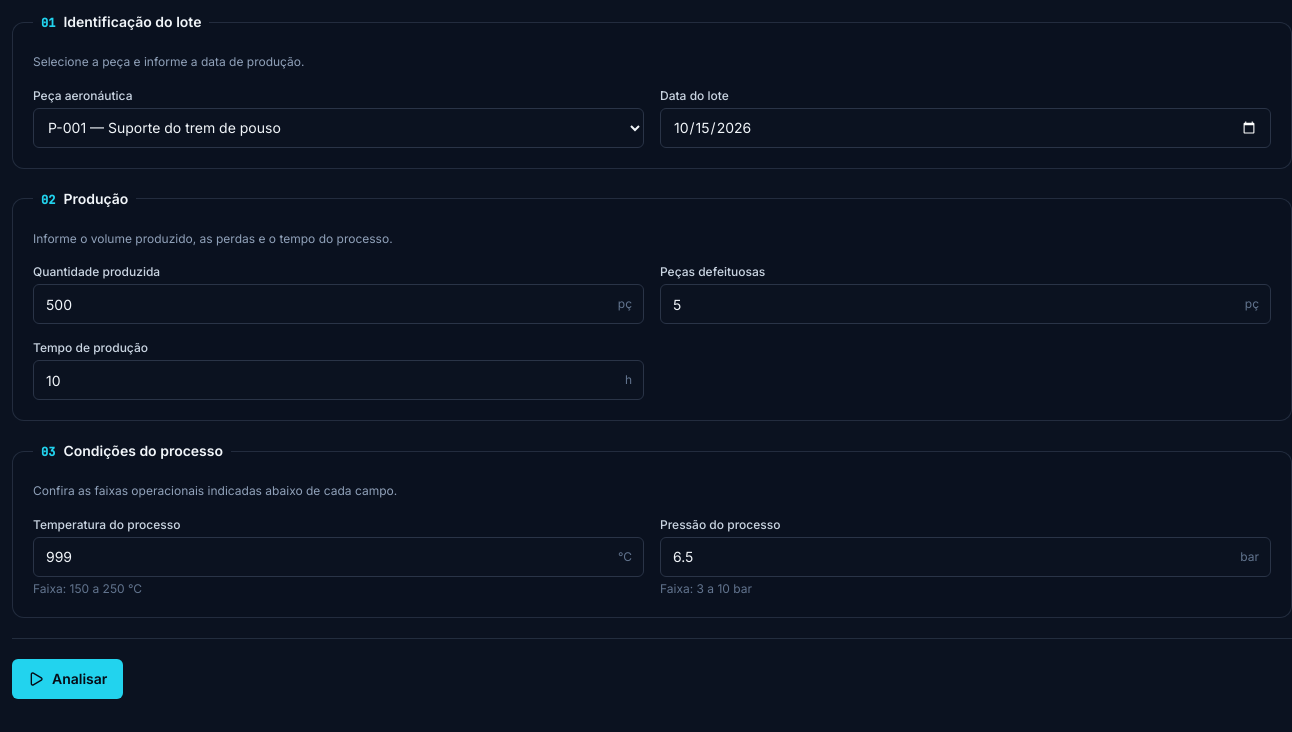
Test case: T6.6 — obrigatórios, faixas e submit › permite envio após corrigir temperatura inválida
Click the button "Analisar": (68,678) x1=12 y1=658 x2=123 y2=698
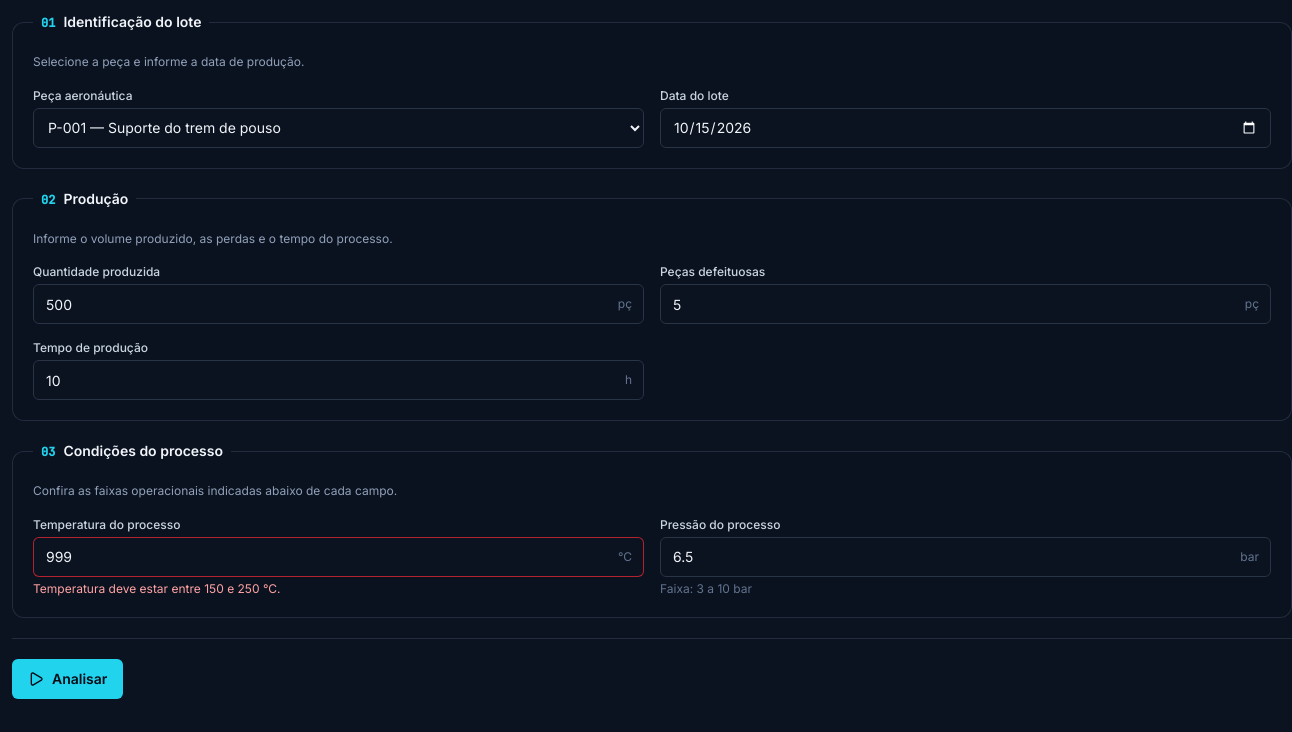
Replace the text in the number field labelled "Temperatura do processo" with "205": (338,556) x1=33 y1=536 x2=644 y2=576
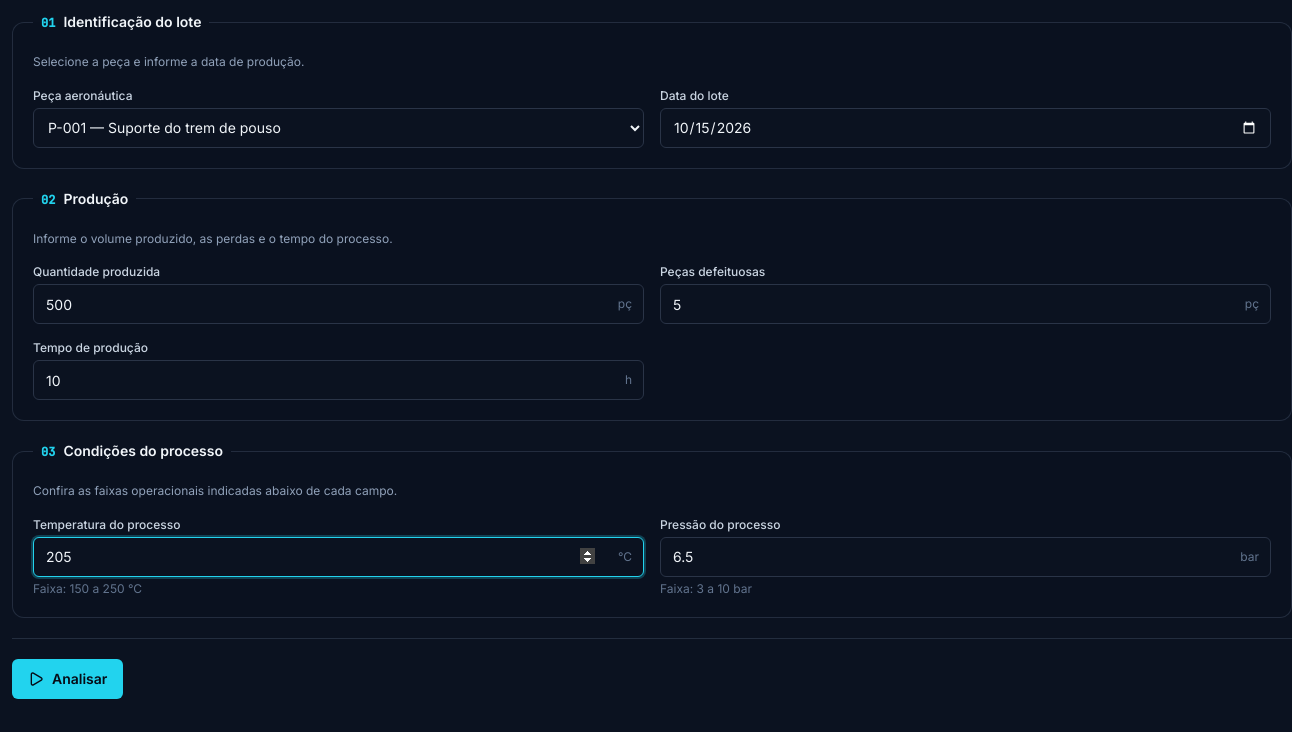
Click the button "Analisar": (68,678) x1=12 y1=658 x2=123 y2=698
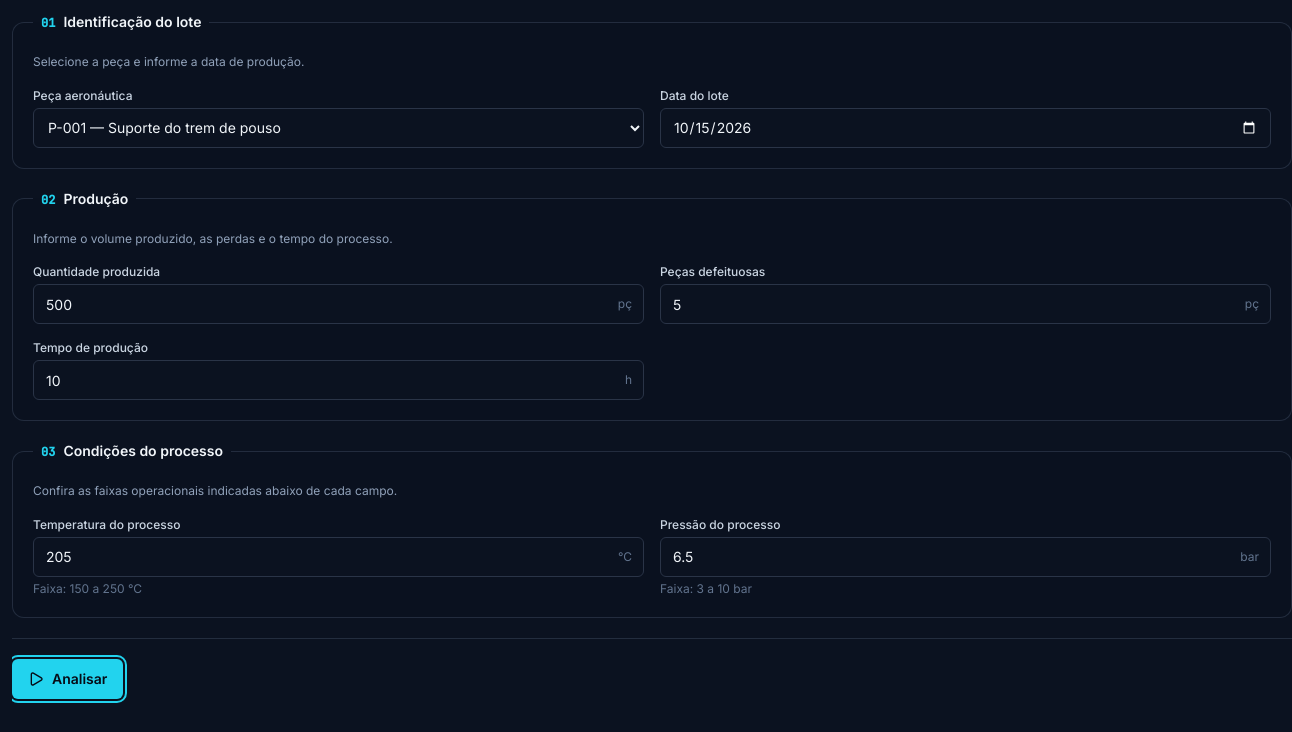
Now the number field labelled "Temperatura do processo" does not have attribute aria-invalid="true", box x1=33 y1=536 x2=644 y2=576
